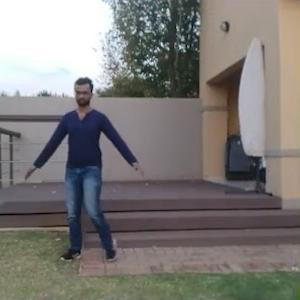land: (37, 89, 147, 270)
